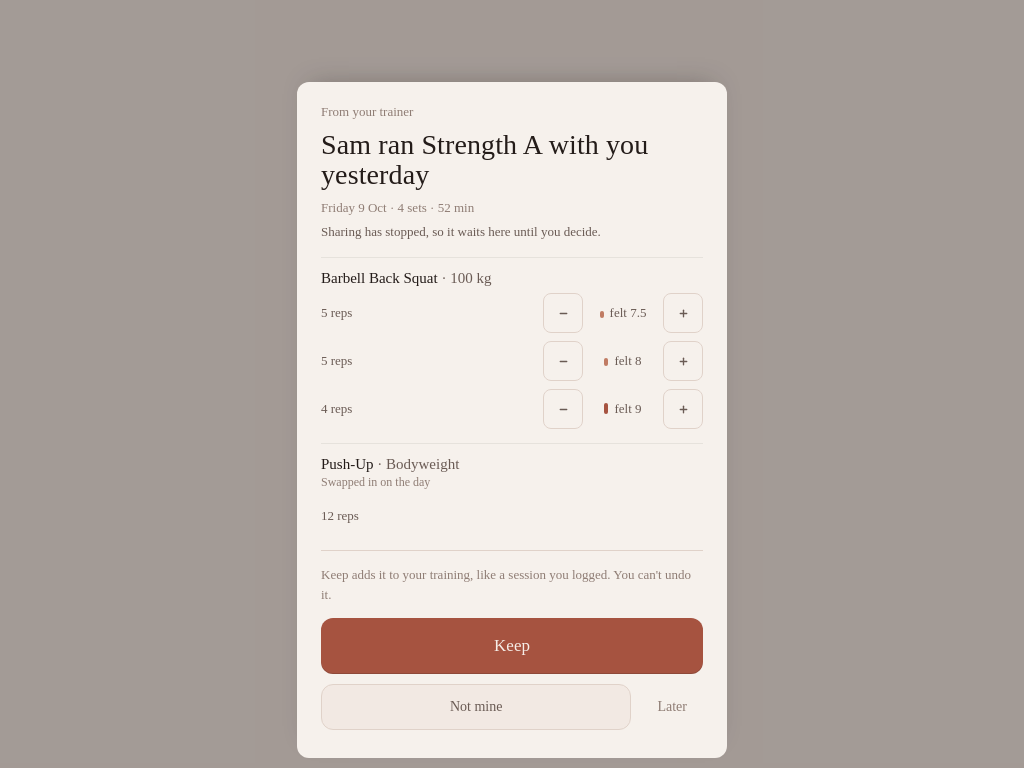
Test: the sheet › no control in the sheet carries a press class, through the confirm; Keep is the house commit
The width and height of the screenshot is (1024, 768).
Click the button "Not mine": (476, 707) [321,684,632,730]
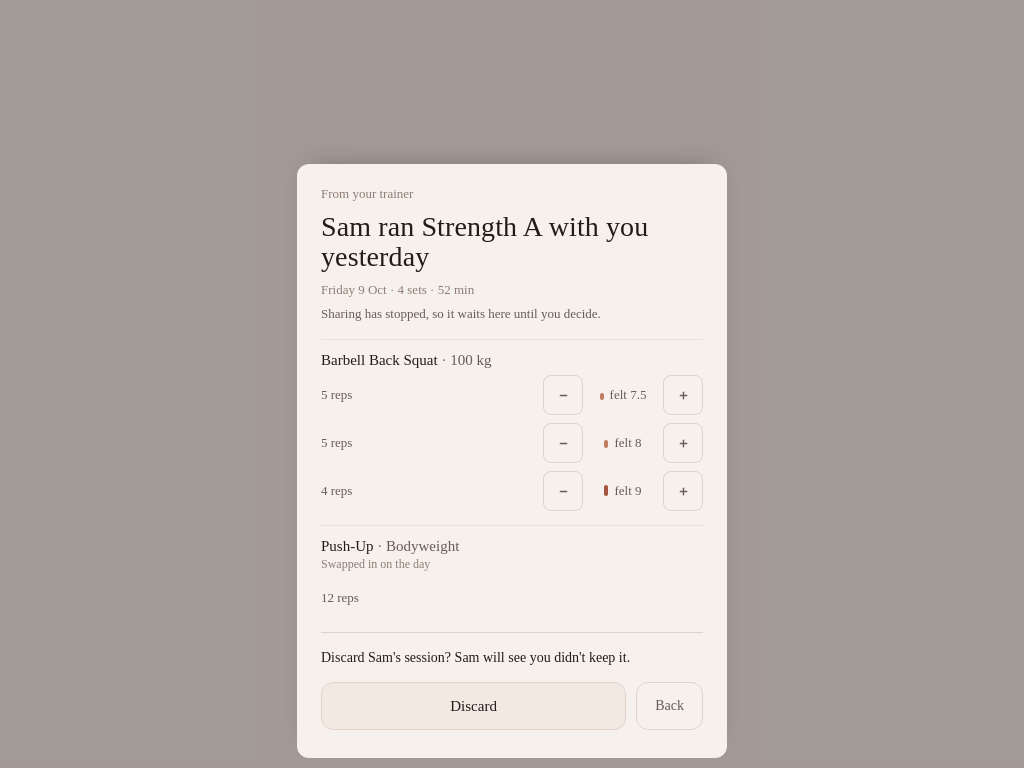
Result: the button "Discard" is shown at [321,682,626,730]
